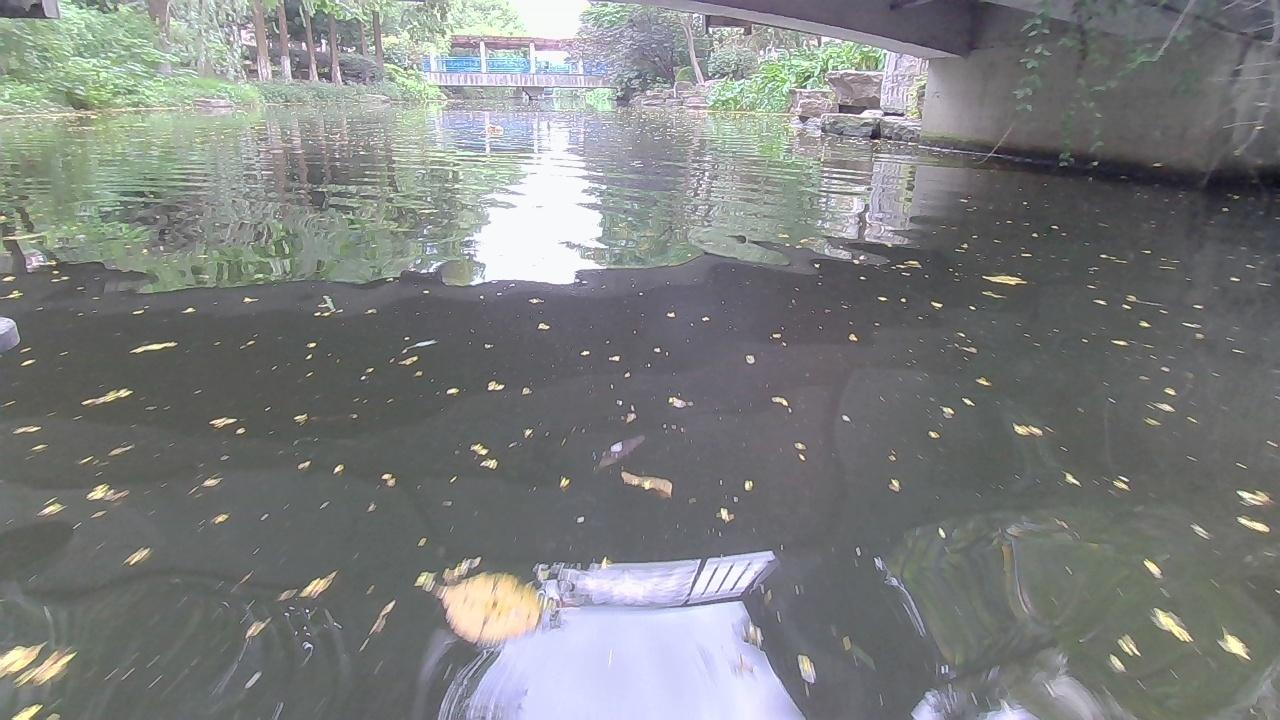bottle: (487, 124, 504, 133)
